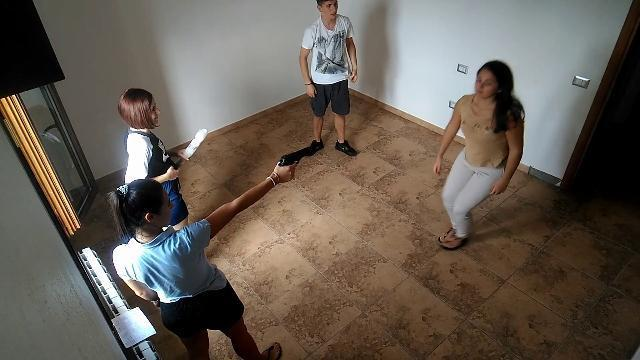non-violence: (428, 47, 536, 250), (298, 1, 358, 170)
violence: (100, 132, 330, 360), (112, 80, 208, 288)
weapon: (280, 142, 320, 167)
